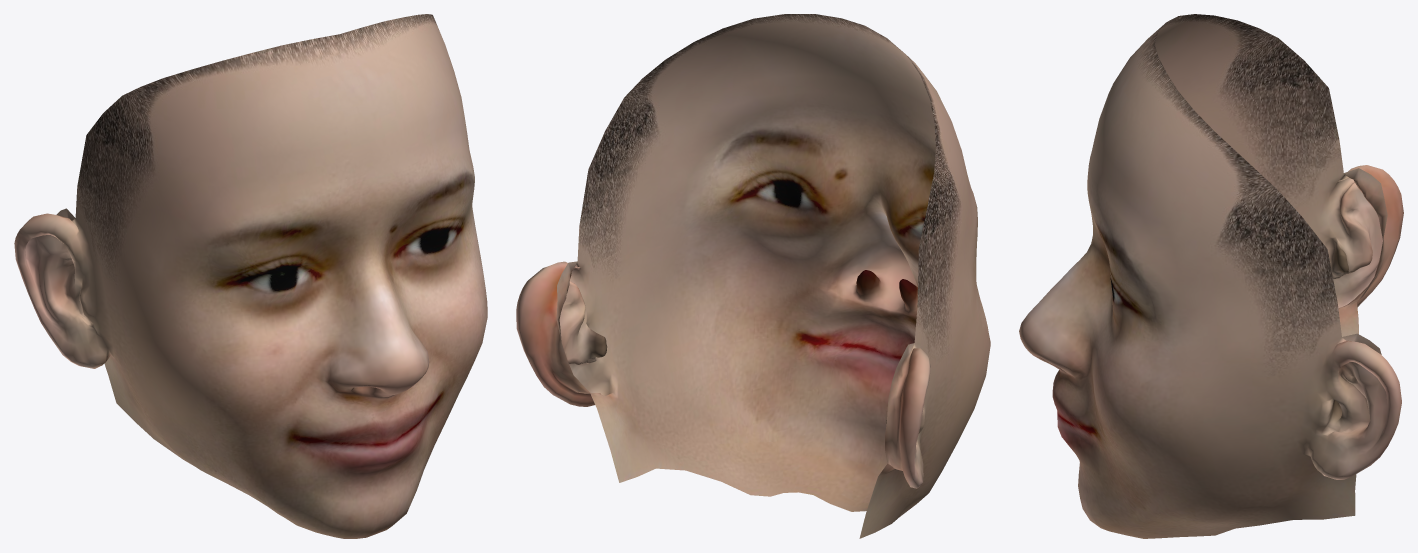
File: Talen.fbx
3 renders of one model, left to right at view 1: azimuth 30°, elevation 25°; view 2: azimuth 150°, elevation 25°; view 3: azimuth 270°, elevation 25°, orthographic.
Visible parts, largest first — view 1: avaturn_body.001; view 2: avaturn_body.001; view 3: avaturn_body.001.
Boxes of the visible parts, x1,y1,x2,y2 form: avaturn_body.001: (14, 14, 487, 538); avaturn_body.001: (516, 14, 990, 538); avaturn_body.001: (1019, 14, 1403, 538).
Bounding box in the file's own units: 17.71 × 20.72 × 14.73.
Materials: 1 (1 with a texture image).
